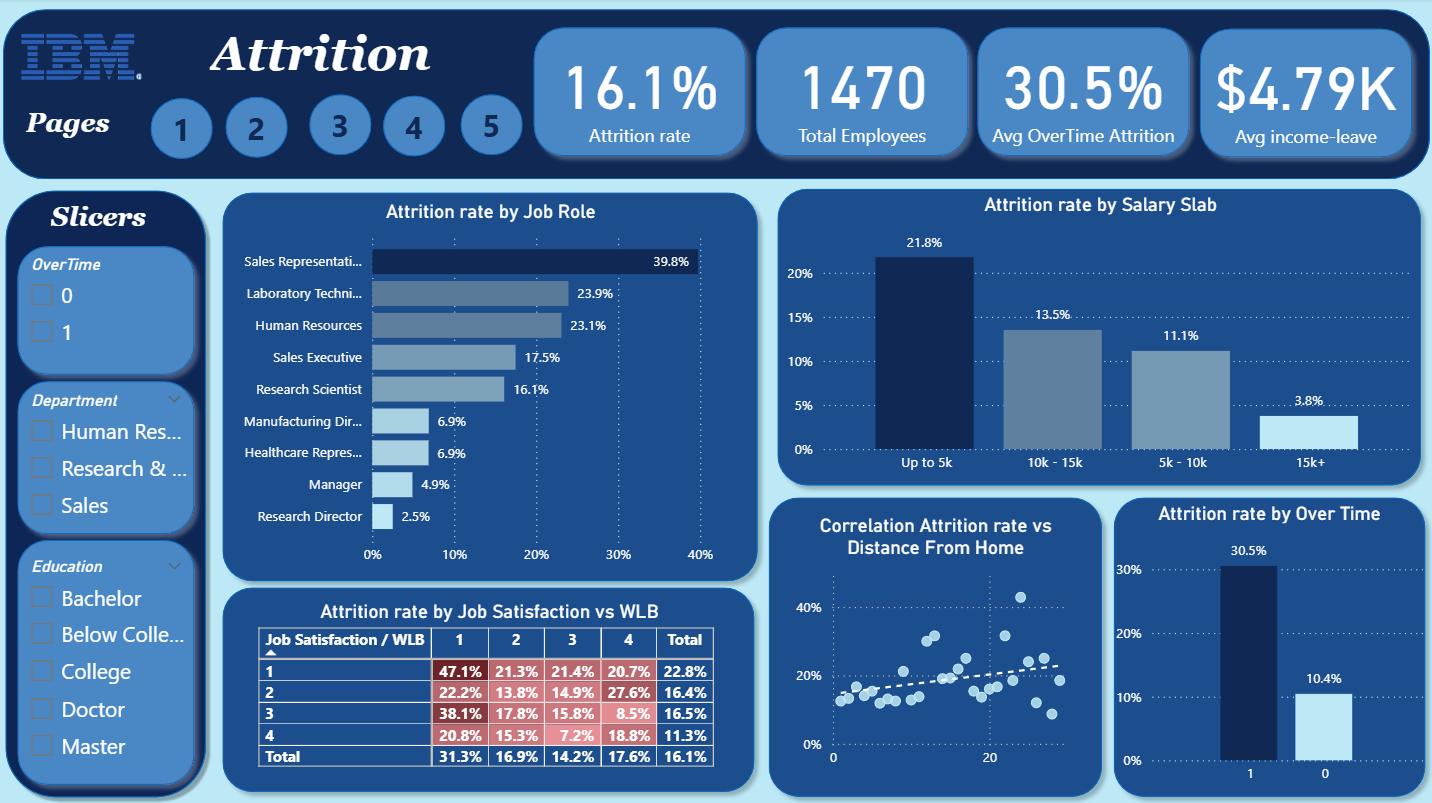

This screenshot's page, from the dashboard's own definition file:
{"tool":"powerbi","page":{"name":"Attrition","canvas":[1280,720],"ordinal":1},"visuals":[{"type":"shape","box":[4.1,9.5,1270.8,151.6],"z":0},{"type":"shape","box":[136.3,89.3,55.5,54.3],"z":0,"group":"g14"},{"type":"image","box":[15.7,9.7,117,83.2],"z":1000},{"type":"shape","box":[202.7,88.1,55.5,54.3],"z":1000,"group":"g14"},{"type":"shape","box":[468.1,18.1,205.8,131.4],"z":1500,"group":"g2"},{"type":"shape","box":[665.7,18.1,205.8,131.4],"z":1500,"group":"g4"},{"type":"shape","box":[863.4,18.1,205.8,131.4],"z":1500,"group":"g6"},{"type":"shape","box":[1061,19.5,205.8,131.4],"z":1500,"group":"g8"},{"type":"shape","box":[685.3,161.7,589.9,281.1],"z":1500,"group":"g13"},{"type":"shape","box":[191.8,165.3,493.4,363.1],"z":1500,"group":"g9"},{"type":"shape","box":[8.4,212.3,174.5,131.4],"z":1500,"group":"g3"},{"type":"shape","box":[8.4,333,174.5,153],"z":1500,"group":"g5"},{"type":"shape","box":[678,436.7,313.7,283.5],"z":1500,"group":"g12"},{"type":"shape","box":[985.7,436.7,294.4,283.5],"z":1500,"group":"g10"},{"type":"shape","box":[8.4,474.1,174.5,235],"z":1500,"group":"g7"},{"type":"shape","box":[191.8,516.4,490.6,199.1],"z":1500,"group":"g11"},{"type":"textbox","box":[183.4,20.5,257,62.7],"z":2000},{"type":"shape","box":[277.5,85.7,55.5,54.3],"z":2000,"group":"g14"},{"type":"shape","box":[343.8,86.9,55.5,54.3],"z":3000,"group":"g14"},{"type":"textbox","box":[20.5,92.9,105,43.4],"z":3000},{"type":"shape","box":[412.6,85.7,55.5,54.3],"z":4000,"group":"g14"},{"type":"shape","box":[0,165.3,191.8,553.8],"z":4000},{"type":"clusteredColumnChart","title":"Attrition rate by Salary Slab","fields":{"Y":["_measures.Attrition rate"],"Category":["Fact_Emp_Metrics.SalarySlab"]},"box":[697,173.8,567.9,258.2],"z":4000,"group":"g13"},{"type":"barChart","title":"Attrition rate by Job Role","fields":{"Category":["Dim_JobRole.JobRole"],"Y":["_measures.Attrition rate"]},"box":[201.6,180.9,475,333.6],"z":4000,"group":"g9"},{"type":"clusteredColumnChart","title":"Attrition rate by Over Time","fields":{"Y":["_measures.Attrition rate"],"Category":["Fact_Emp_Metrics.OverTime"]},"box":[991.5,448.9,283.3,260.5],"z":4000,"group":"g10"},{"type":"pivotTable","title":"Attrition rate by Job Satisfaction vs WLB","fields":{"Values":["_measures.Attrition rate"],"Rows":["Fact_Emp_Metrics.Job_Satisfaction_key"],"Columns":["Fact_Emp_Metrics.WorkLifeBalance_key"]},"box":[227,536.5,421,170.1],"z":4000,"group":"g11"},{"type":"group","id":"g1","title":"Group 3","box":[468.1,18.1,798.7,132.7],"z":5000},{"type":"card","fields":{"Values":["_measures.Attrition rate"]},"box":[476.8,28.9,188.3,109.7],"z":5001,"group":"g2"},{"type":"card","fields":{"Values":["_measures.Total Employees"]},"box":[674.4,28.9,188.3,109.7],"z":5001,"group":"g4"},{"type":"card","fields":{"Values":["_measures.Avg OverTime Attrition"]},"box":[872.1,28.9,188.3,109.7],"z":5001,"group":"g6"},{"type":"card","fields":{"Values":["_measures.Avg income-leave"]},"box":[1069.7,30.3,188.3,109.7],"z":5001,"group":"g8"},{"type":"slicer","fields":{"Values":["Fact_Emp_Metrics.OverTime"]},"box":[15.8,223.1,159.7,109.7],"z":5001,"group":"g3"},{"type":"slicer","fields":{"Values":["Dim_Department.Department"]},"box":[15.8,345.6,159.7,127.8],"z":5001,"group":"g5"},{"type":"slicer","fields":{"Values":["Dim_Education.Education"]},"box":[15.8,493.5,159.7,196.2],"z":5001,"group":"g7"},{"type":"group","id":"g2","title":"Group 2","box":[468.1,18.1,205.8,131.4],"z":6000,"group":"g1"},{"type":"group","id":"g3","title":"Group 2","box":[8.4,212.3,174.9,131.5],"z":6000},{"type":"group","id":"g4","title":"Group 2","box":[665.7,18.1,205.8,131.4],"z":7000,"group":"g1"},{"type":"group","id":"g5","title":"Group 2","box":[8.4,333,174.9,153.2],"z":7000},{"type":"group","id":"g6","title":"Group 2","box":[863.4,18.1,205.8,131.4],"z":8000,"group":"g1"},{"type":"group","id":"g7","title":"Group 2","box":[8.4,474.1,174.9,235.3],"z":8000},{"type":"group","id":"g8","title":"Group 2","box":[1061,19.5,205.8,131.4],"z":9000,"group":"g1"},{"type":"textbox","box":[42.2,176.1,105,43.4],"z":9000},{"type":"group","id":"g9","title":"Group 1","box":[191.8,165.3,493.4,363.1],"z":11000},{"type":"group","id":"g10","title":"Group 1","box":[985.7,436.7,294.4,283.5],"z":12000},{"type":"group","id":"g11","title":"Group 1","box":[191.8,516.4,490.6,199.1],"z":13000},{"type":"scatterChart","title":"Correlation Attrition rate vs Distance From Home","fields":{"Y":["_measures.Attrition rate"],"X":["Dim_Employee.DistanceFromHome"]},"box":[706,460.5,258.9,234.6],"z":13001,"group":"g12"},{"type":"group","id":"g12","title":"Group 4","box":[678,436.7,313.7,283.5],"z":14000},{"type":"group","id":"g13","title":"Group 1","box":[685.3,161.7,589.9,281.1],"z":15000},{"type":"group","id":"g14","title":"Group 5","box":[136.3,85.7,331.8,57.9],"z":15001}]}

Visuals, with their boxes in screenshot pixels (x1, y1, x2, y2), scaled from the page's 1280x720 canvas onto the 1432x803 screenshot:
shape: x1=5 y1=11 x2=1426 y2=180
shape: x1=152 y1=100 x2=215 y2=160
image: x1=18 y1=11 x2=148 y2=104
shape: x1=227 y1=98 x2=289 y2=159
shape: x1=524 y1=20 x2=754 y2=167
shape: x1=745 y1=20 x2=975 y2=167
shape: x1=966 y1=20 x2=1196 y2=167
shape: x1=1187 y1=22 x2=1417 y2=168
shape: x1=767 y1=180 x2=1427 y2=494
shape: x1=215 y1=184 x2=767 y2=589
shape: x1=9 y1=237 x2=205 y2=383
shape: x1=9 y1=371 x2=205 y2=542
shape: x1=759 y1=487 x2=1109 y2=802
shape: x1=1103 y1=487 x2=1431 y2=802
shape: x1=9 y1=529 x2=205 y2=791
shape: x1=215 y1=576 x2=763 y2=798
textbox: x1=205 y1=23 x2=493 y2=93
shape: x1=310 y1=96 x2=373 y2=156
shape: x1=385 y1=97 x2=447 y2=157
textbox: x1=23 y1=104 x2=140 y2=152
shape: x1=462 y1=96 x2=524 y2=156
shape: x1=0 y1=184 x2=215 y2=802
"Attrition rate by Salary Slab" clusteredColumnChart: x1=780 y1=194 x2=1415 y2=482
"Attrition rate by Job Role" barChart: x1=226 y1=202 x2=757 y2=574
"Attrition rate by Over Time" clusteredColumnChart: x1=1109 y1=501 x2=1426 y2=791
"Attrition rate by Job Satisfaction vs WLB" pivotTable: x1=254 y1=598 x2=725 y2=788
"Group 3" group: x1=524 y1=20 x2=1417 y2=168
card - _measures.Attrition rate: x1=533 y1=32 x2=744 y2=155
card - _measures.Total Employees: x1=754 y1=32 x2=965 y2=155
card - _measures.Avg OverTime Attrition: x1=976 y1=32 x2=1186 y2=155
card - _measures.Avg income-leave: x1=1197 y1=34 x2=1407 y2=156
slicer - Fact_Emp_Metrics.OverTime: x1=18 y1=249 x2=196 y2=371
slicer - Dim_Department.Department: x1=18 y1=385 x2=196 y2=528
slicer - Dim_Education.Education: x1=18 y1=550 x2=196 y2=769
"Group 2" group: x1=524 y1=20 x2=754 y2=167
"Group 2" group: x1=9 y1=237 x2=205 y2=383
"Group 2" group: x1=745 y1=20 x2=975 y2=167
"Group 2" group: x1=9 y1=371 x2=205 y2=542
"Group 2" group: x1=966 y1=20 x2=1196 y2=167
"Group 2" group: x1=9 y1=529 x2=205 y2=791
"Group 2" group: x1=1187 y1=22 x2=1417 y2=168
textbox: x1=47 y1=196 x2=165 y2=245
"Group 1" group: x1=215 y1=184 x2=767 y2=589
"Group 1" group: x1=1103 y1=487 x2=1431 y2=802
"Group 1" group: x1=215 y1=576 x2=763 y2=798
"Correlation Attrition rate vs Distance From Home" scatterChart: x1=790 y1=514 x2=1079 y2=775
"Group 4" group: x1=759 y1=487 x2=1109 y2=802
"Group 1" group: x1=767 y1=180 x2=1427 y2=494
"Group 5" group: x1=152 y1=96 x2=524 y2=160
